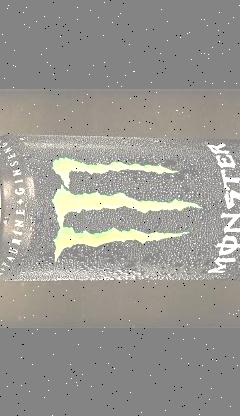Can: (0, 131, 240, 282)
